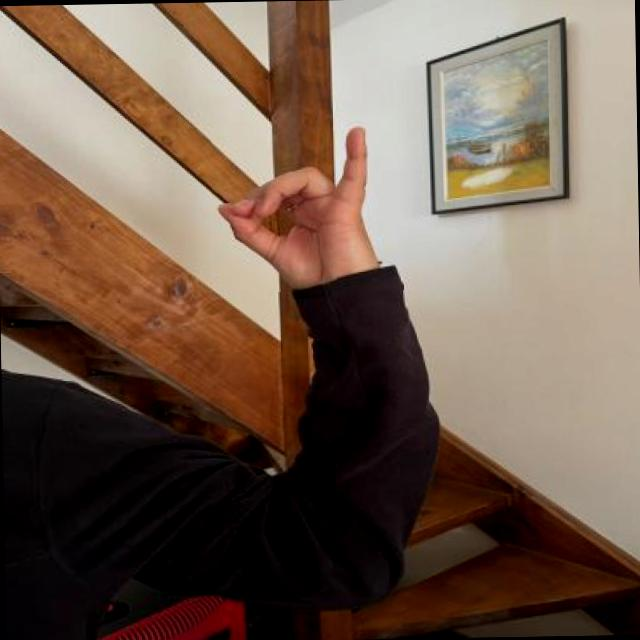D: (210, 120, 404, 292)
